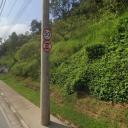speed_limit_50: (43, 29, 52, 40)
